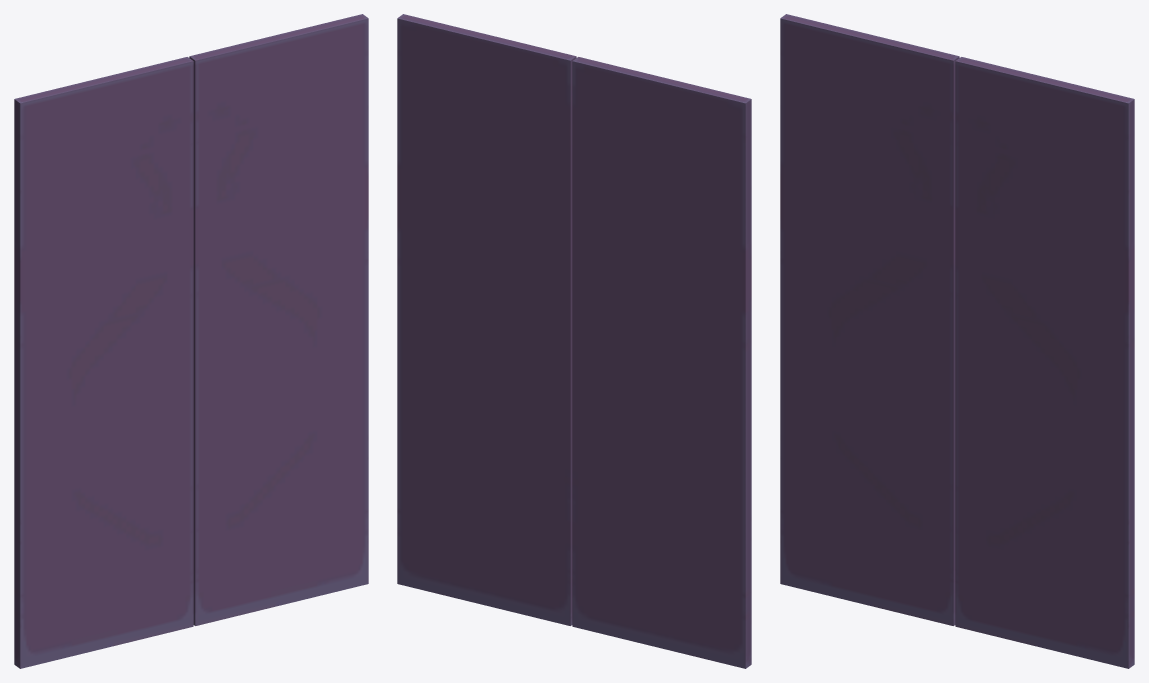
The model's file is MansionLockDoor.fbx.
The picture shows the model from 3 angles, left to right: view 1: azimuth 30°, elevation 25°; view 2: azimuth 150°, elevation 25°; view 3: azimuth 330°, elevation 25°; orthographic projection.
Visible parts, largest first — view 1: RIGHT, LEFT; view 2: RIGHT, LEFT; view 3: LEFT, RIGHT.
Part boxes in pixels (box(x1,y1,x2,y2)): RIGHT: box(14, 57, 193, 668); LEFT: box(189, 14, 368, 625); RIGHT: box(572, 57, 751, 668); LEFT: box(397, 14, 576, 625); LEFT: box(955, 57, 1134, 668); RIGHT: box(780, 14, 959, 625).
Size of the model in its own units: 374 by 579 by 11.25.
